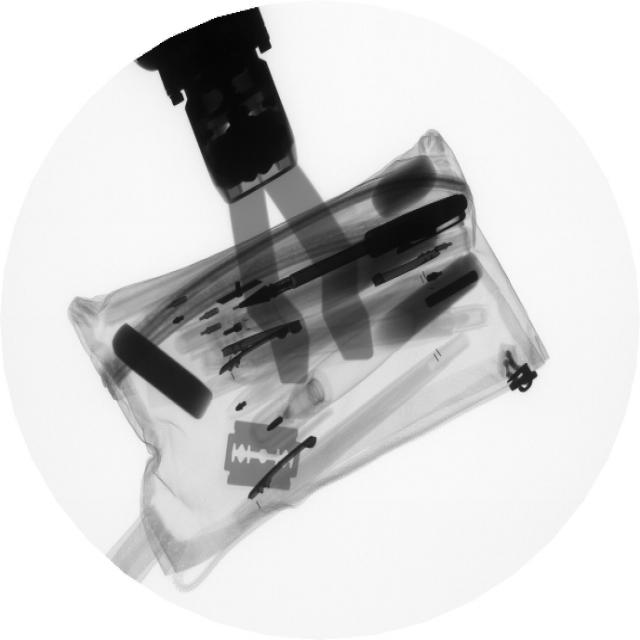BLADE: (217, 413, 308, 503)
